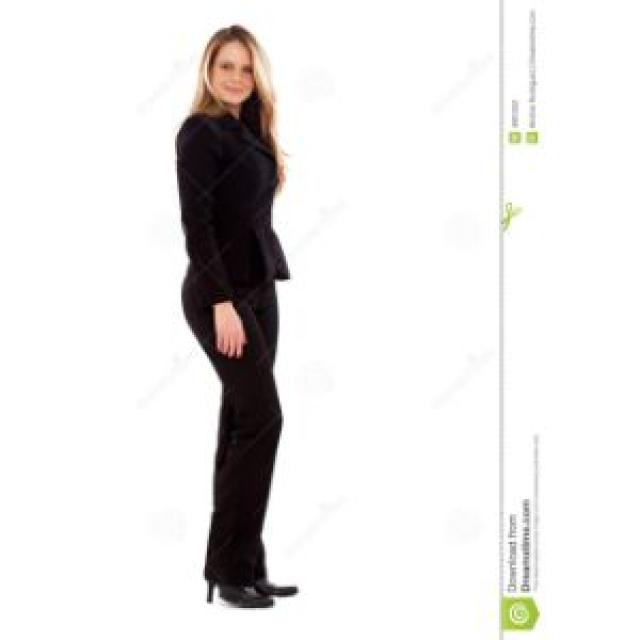adult: (141, 10, 333, 640)
